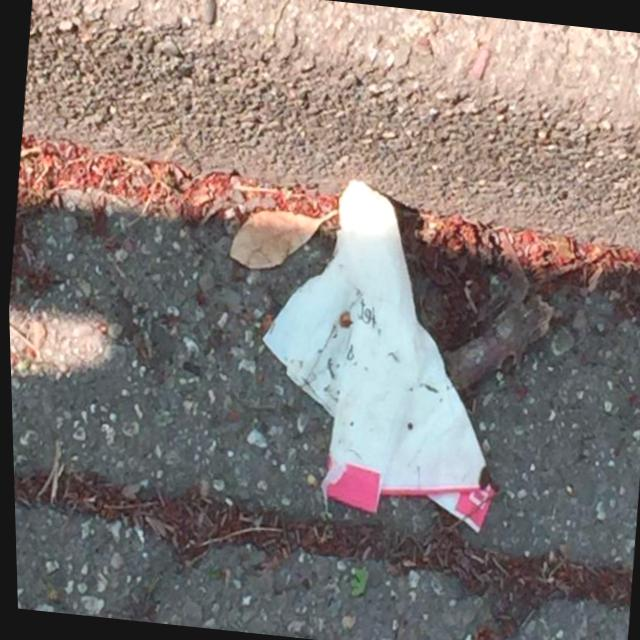Paper: (237, 166, 525, 534)
